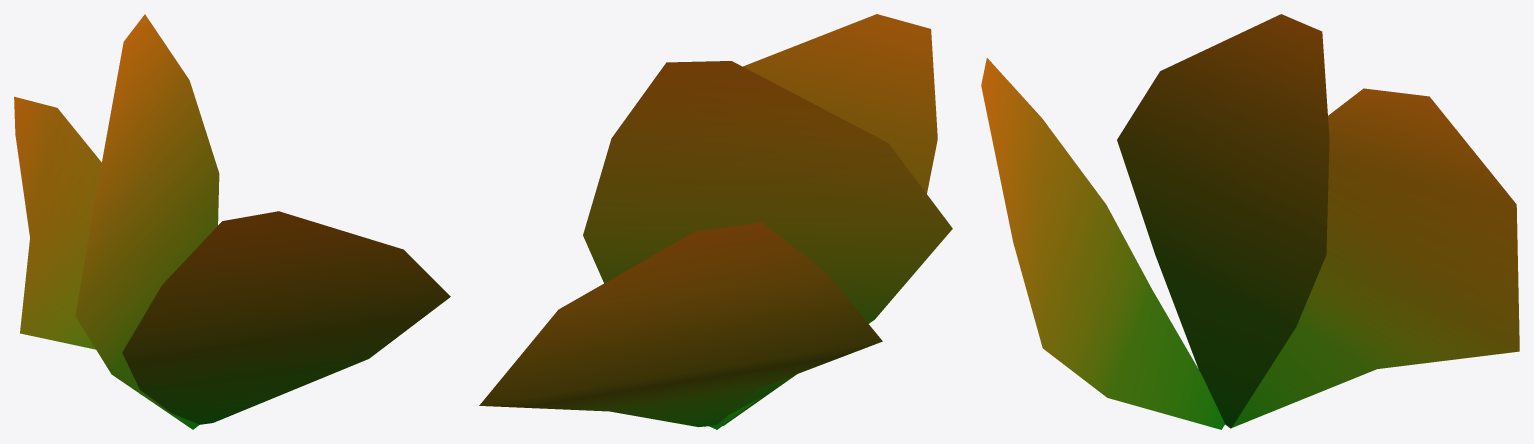
The model's file is Ocean Seaweed_LOD0_Var6_sdDgS.fbx.
The picture shows the model from 3 angles, left to right: view 1: azimuth 30°, elevation 25°; view 2: azimuth 150°, elevation 25°; view 3: azimuth 270°, elevation 25°; orthographic projection. The views are drawn at different scales.
Visible parts, largest first — view 1: _ribg_Var6_LOD0; view 2: _ribg_Var6_LOD0; view 3: _ribg_Var6_LOD0.
Boxes of the visible parts, x1,y1,x2,y2 form: _ribg_Var6_LOD0: (14, 14, 450, 429); _ribg_Var6_LOD0: (479, 14, 952, 429); _ribg_Var6_LOD0: (981, 14, 1519, 429).
Bounding box in the file's own units: 21.53 × 22.96 × 28.76.
